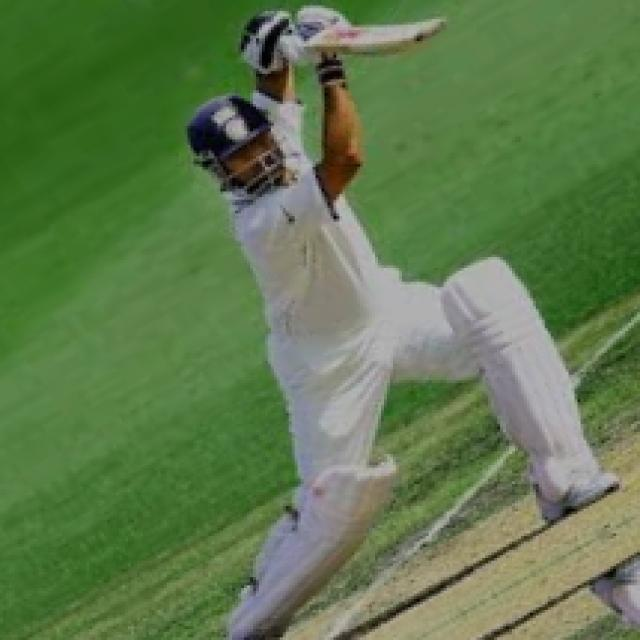bat: (295, 18, 451, 59)
toe: (405, 20, 448, 42)
